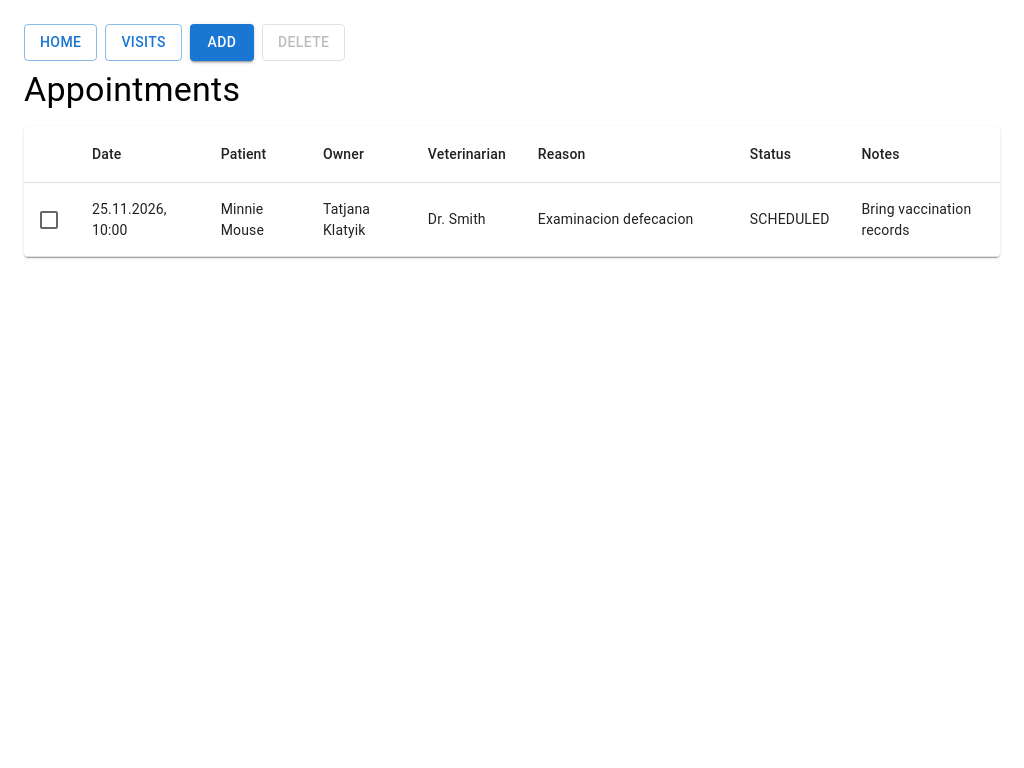
AppointmentsPage › opens the create visit modal from appointment details
Click the row named "Open appointment 1 details" at (512, 220), box [24,183,1000,256]
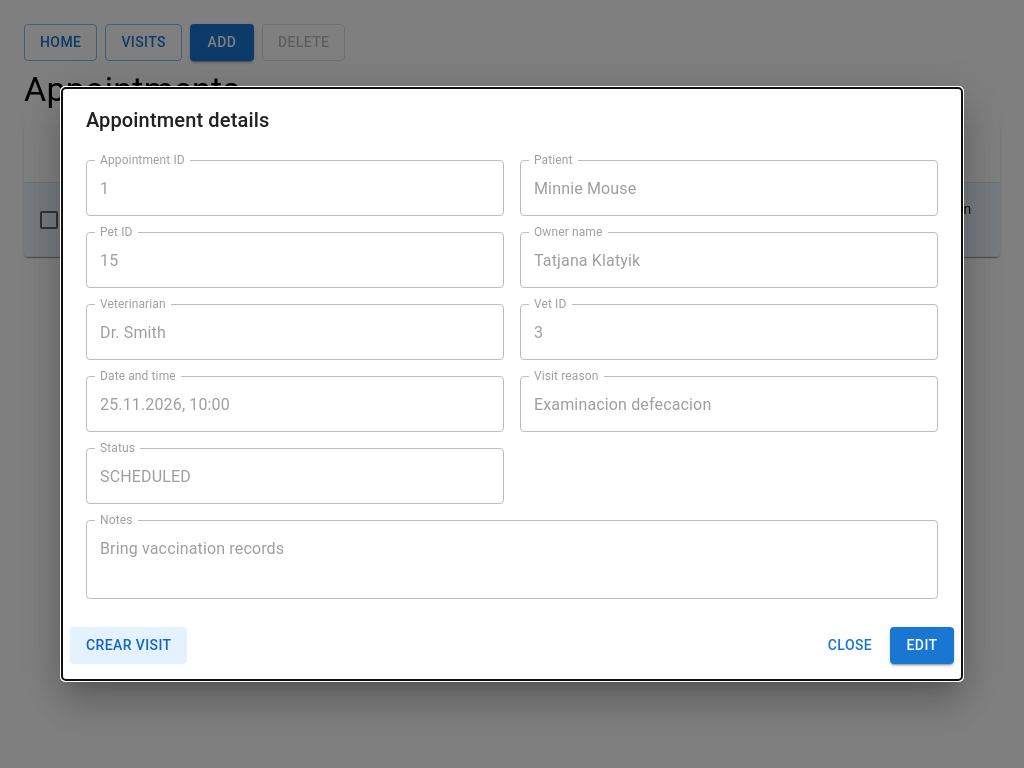
Click the button "Crear Visit" at (129, 646), box [70,627,188,664]
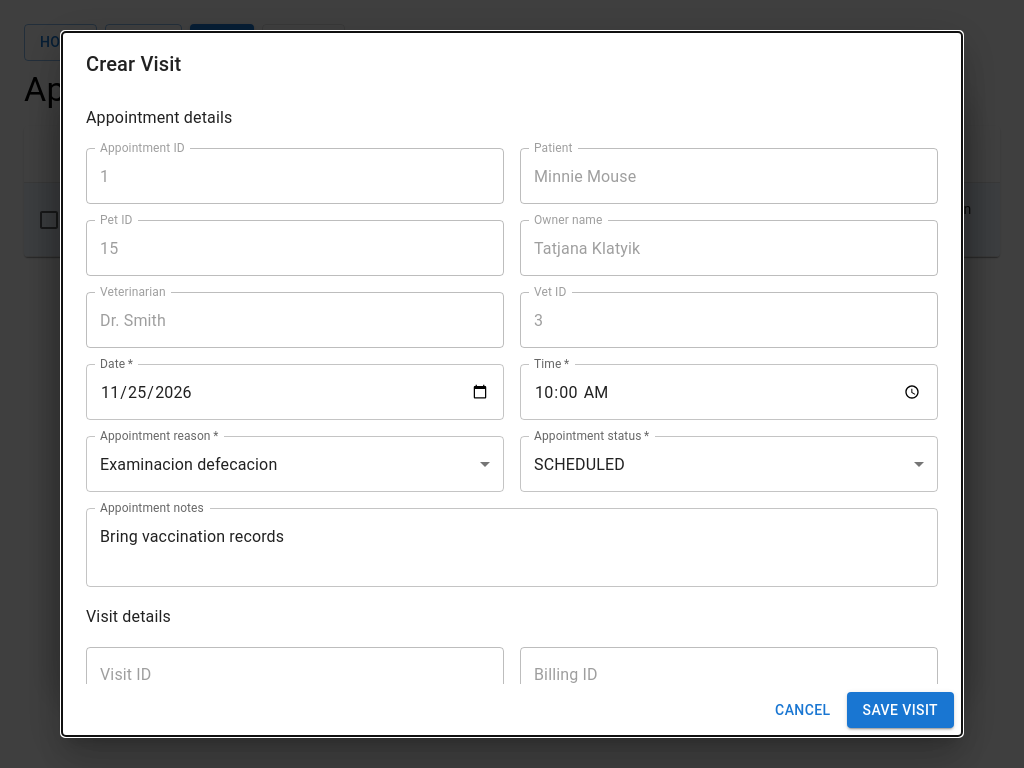
Now the dialog "Crear Visit" is shown
Now the field labelled "Appointment ID" holds "1", box [86,148,504,204]
Now the field labelled "Visit ID" is disabled, box [86,647,504,684]
